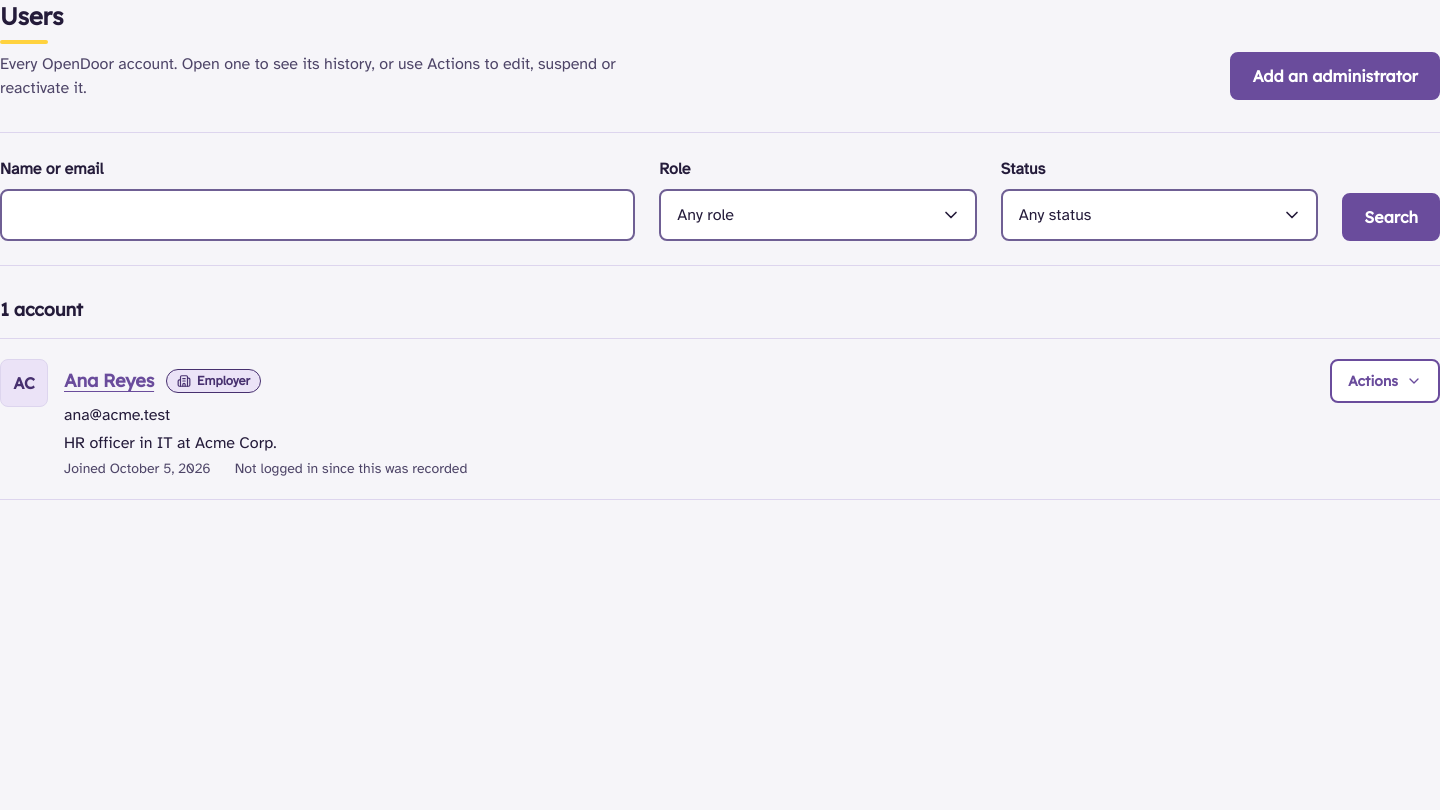
Test: UsersPage › opens the edit dialog from the Actions menu and closes the menu with Escape
The width and height of the screenshot is (1440, 810).
Click the button with aria-label "Actions for Ana Reyes": [1385, 381] box x1=1330 y1=359 x2=1439 y2=403
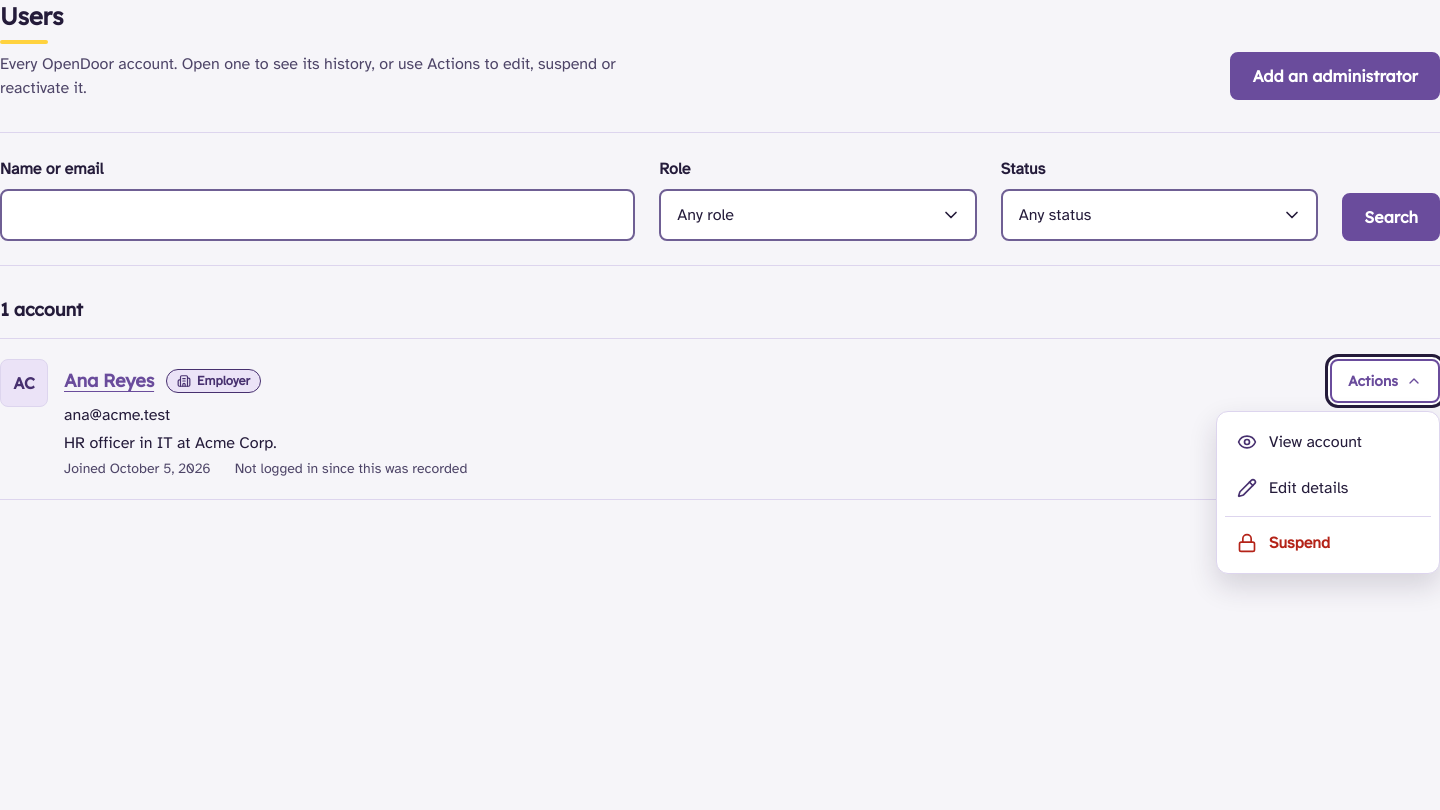
Press Escape
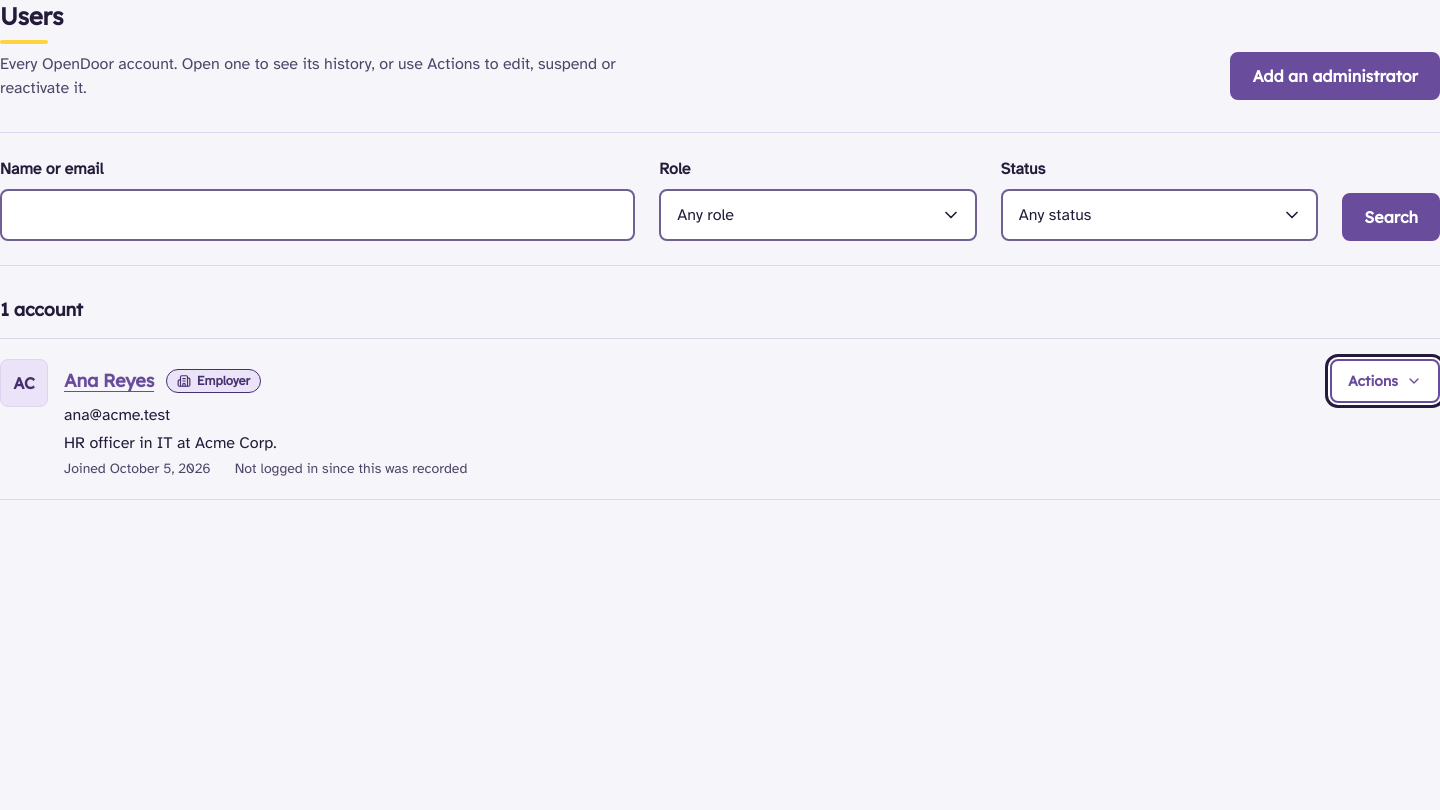
Now the button with aria-label "Actions for Ana Reyes" is collapsed
Click the button with aria-label "Actions for Ana Reyes": [1385, 381] box x1=1330 y1=359 x2=1439 y2=403
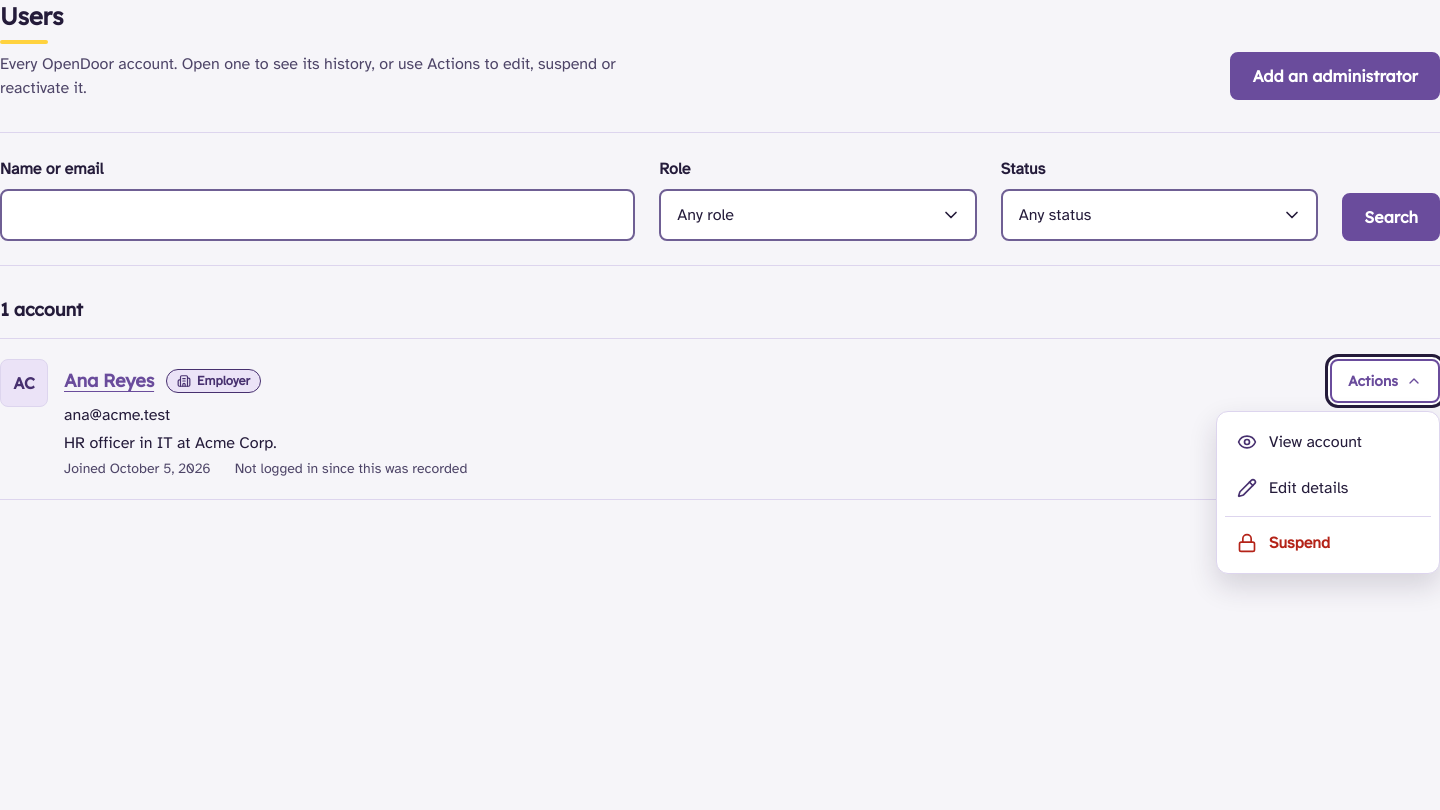
Click the button "Edit details": [1328, 488] box x1=1225 y1=466 x2=1431 y2=510
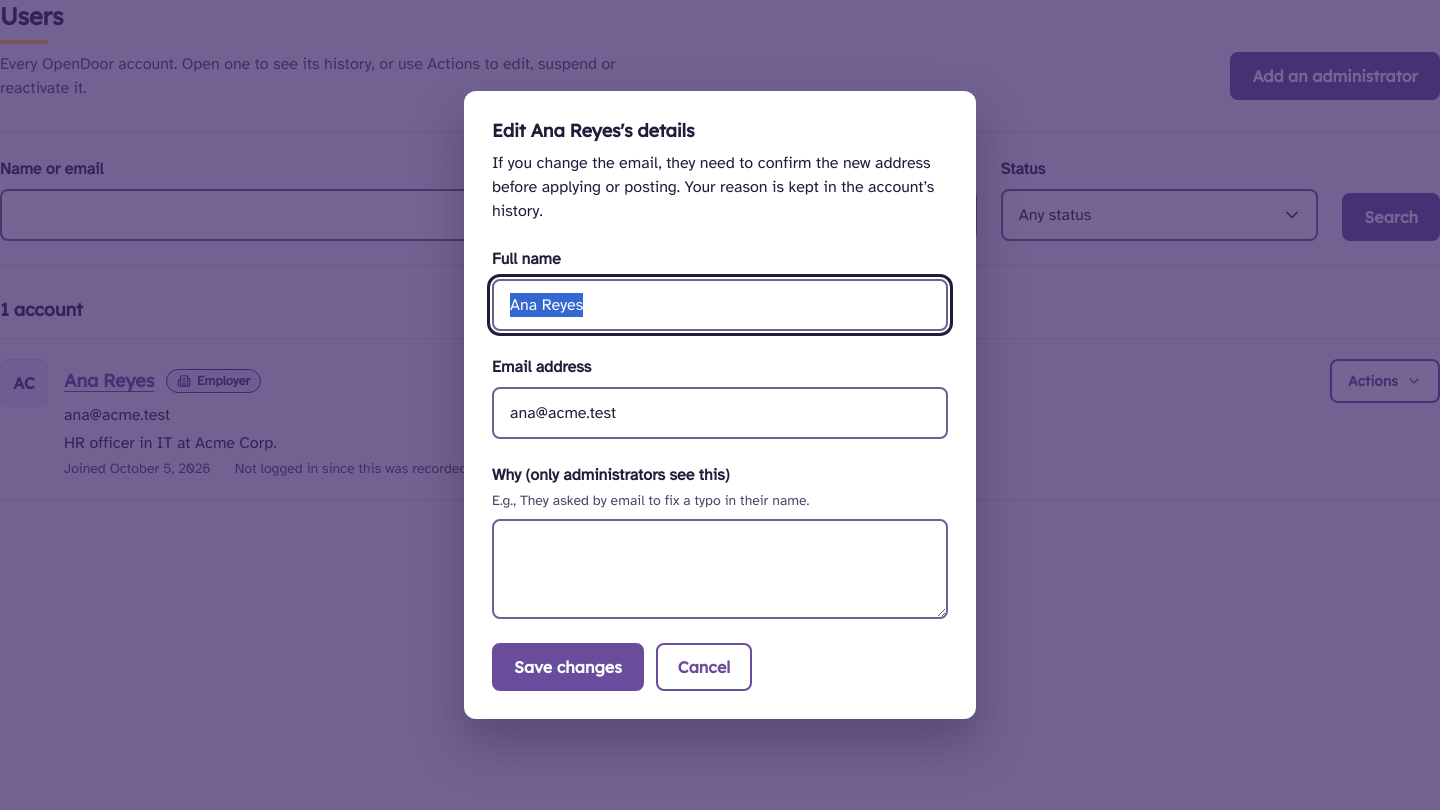
Now the dialog "Edit Ana Reyes's details" is shown, box x1=464 y1=91 x2=976 y2=719
Now the field labelled "Email address" holds "ana@acme.test", box x1=492 y1=387 x2=948 y2=439
